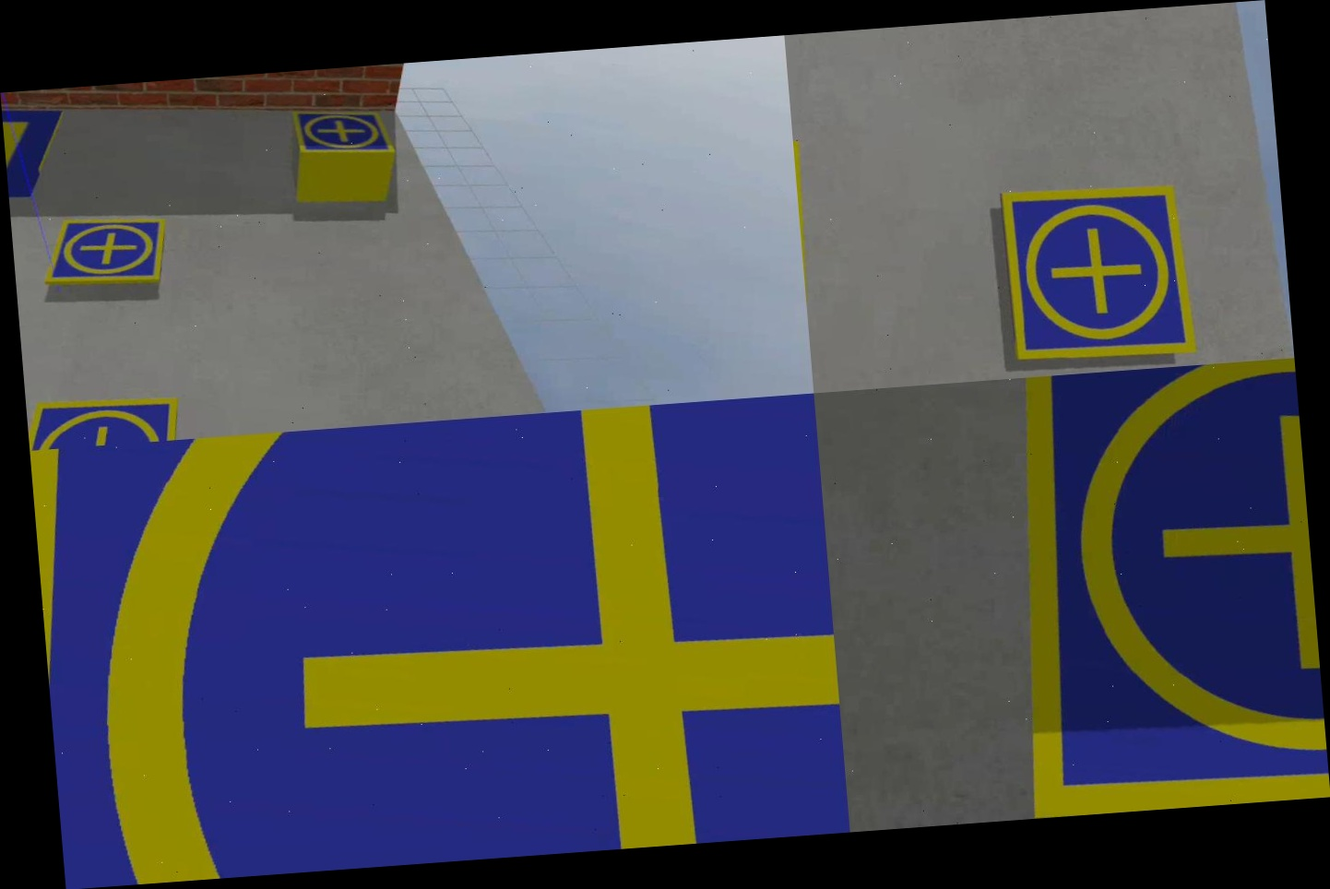large_base: (0, 89, 72, 213)
small_base: (30, 393, 850, 889), (954, 358, 1330, 821), (973, 160, 1224, 380), (37, 204, 172, 301), (25, 374, 186, 451), (288, 100, 402, 168)
